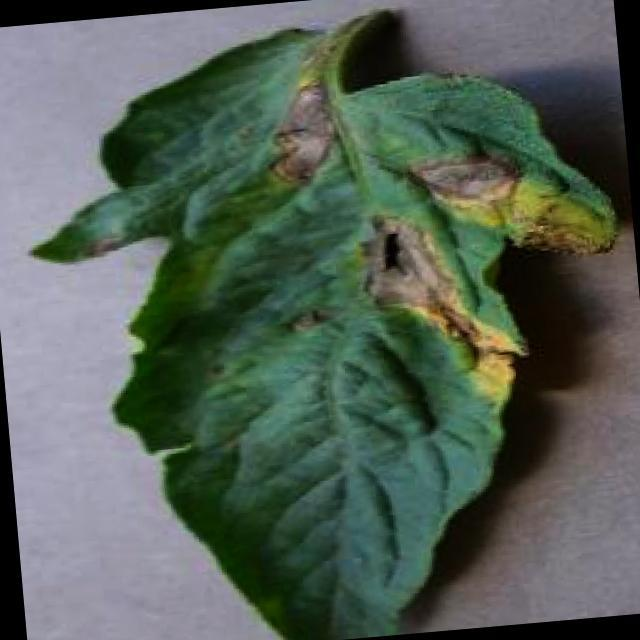Tomato Early blight leaf: (18, 5, 640, 640)
